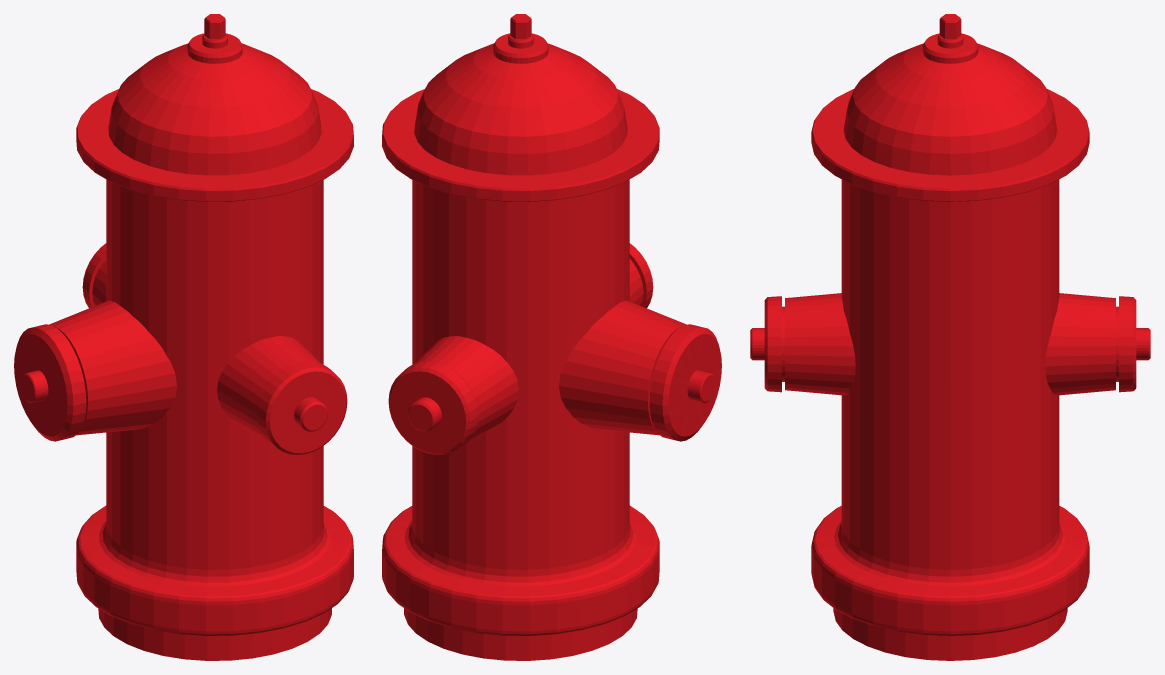
File: fire hydrant.fbx
3 renders of one model, left to right at view 1: azimuth 30°, elevation 25°; view 2: azimuth 150°, elevation 25°; view 3: azimuth 270°, elevation 25°, orthographic.
Visible parts, largest first — view 1: Cylinder.001; view 2: Cylinder.001; view 3: Cylinder.001.
Part boxes in pixels (left/top/right/bottom): Cylinder.001: left=14, top=14, right=353, bottom=660; Cylinder.001: left=382, top=14, right=721, bottom=660; Cylinder.001: left=750, top=14, right=1150, bottom=660.
Size of the model in its own units: 0.4815 by 0.8875 by 0.5423.
